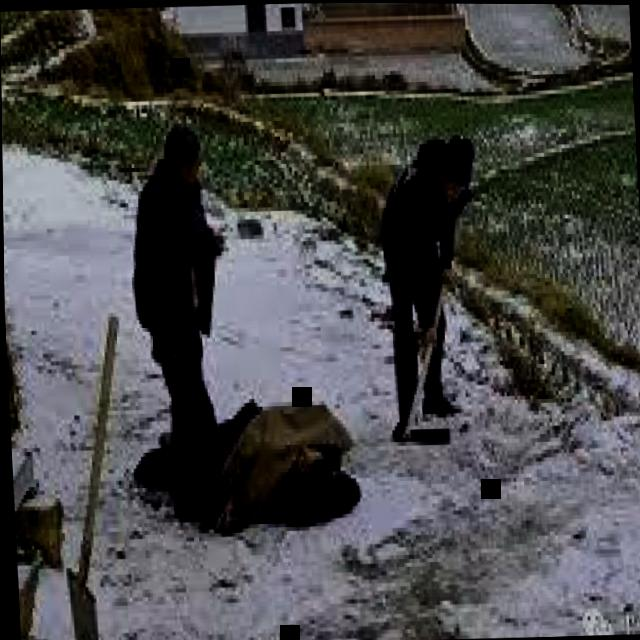Fall-Detected: (112, 366, 370, 533)
